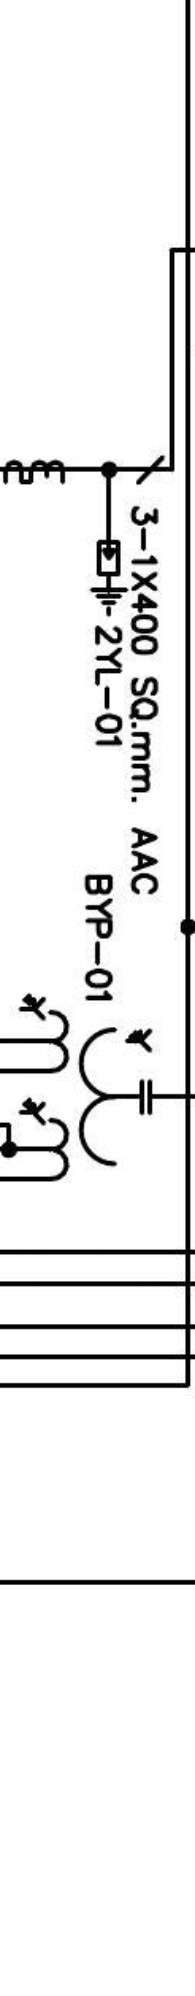115_cvt_3p: (18, 992, 153, 1183)
115_la: (88, 540, 129, 617)
